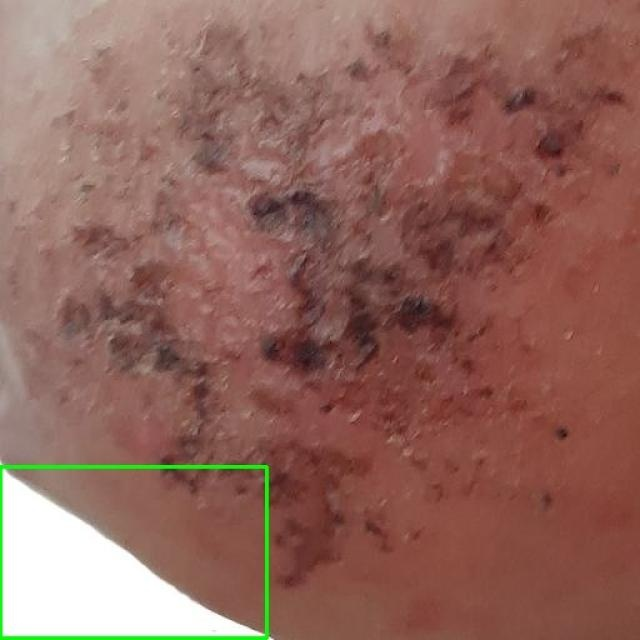Contact Dermatitis: (0, 468, 268, 639)
